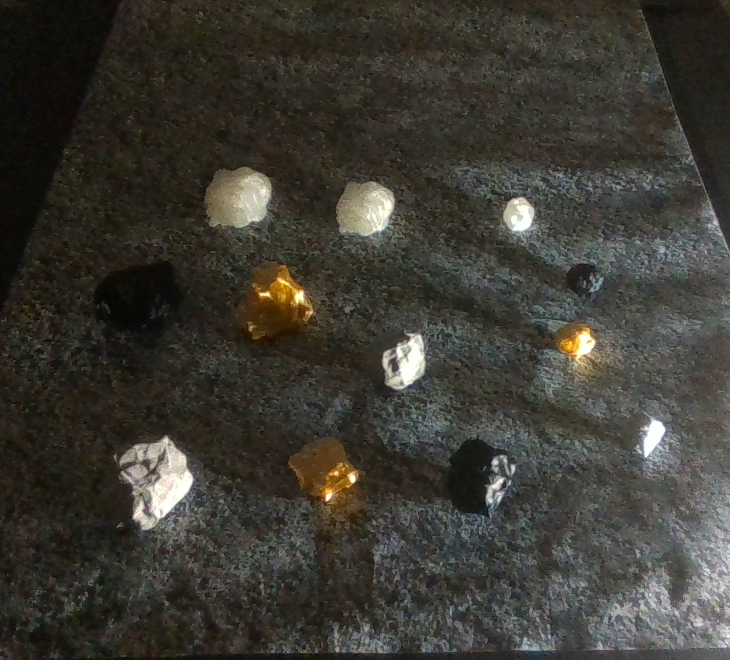anorthosite: (206, 166, 272, 228), (336, 180, 396, 236), (504, 198, 535, 232)
basalt: (94, 261, 181, 330), (447, 438, 517, 519), (567, 264, 604, 297)
metal: (234, 261, 314, 341), (288, 436, 358, 503), (555, 322, 595, 357)
regolith: (96, 433, 194, 531), (362, 329, 426, 391), (621, 410, 665, 459)
